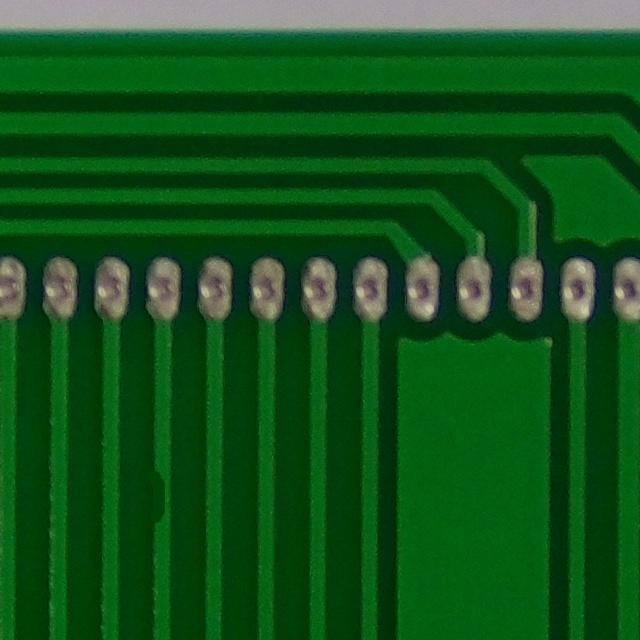mouse_bite: (137, 463, 189, 537)
